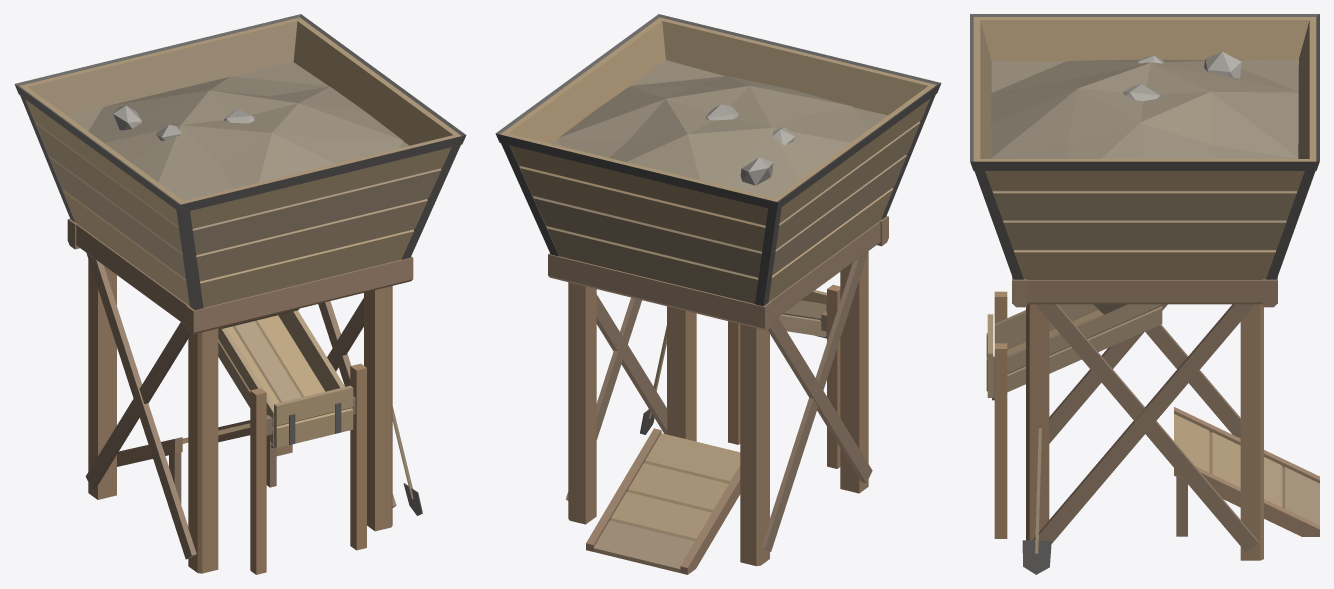
File: tent_0.glb
3 views of the same model, side by side, from view 1: azimuth 30°, elevation 25°; view 2: azimuth 150°, elevation 25°; view 3: azimuth 270°, elevation 25° (orthographic). The views are drawn at different scales.
Parts seen in each view (by area): view 1: tent_0; view 2: tent_0; view 3: tent_0.
Part boxes in pixels (x1,y1,x2,y2): tent_0: (14, 14, 466, 574); tent_0: (495, 14, 941, 574); tent_0: (970, 14, 1319, 574).
Size of the model in its own units: 3.3 by 4.4 by 3.3.
